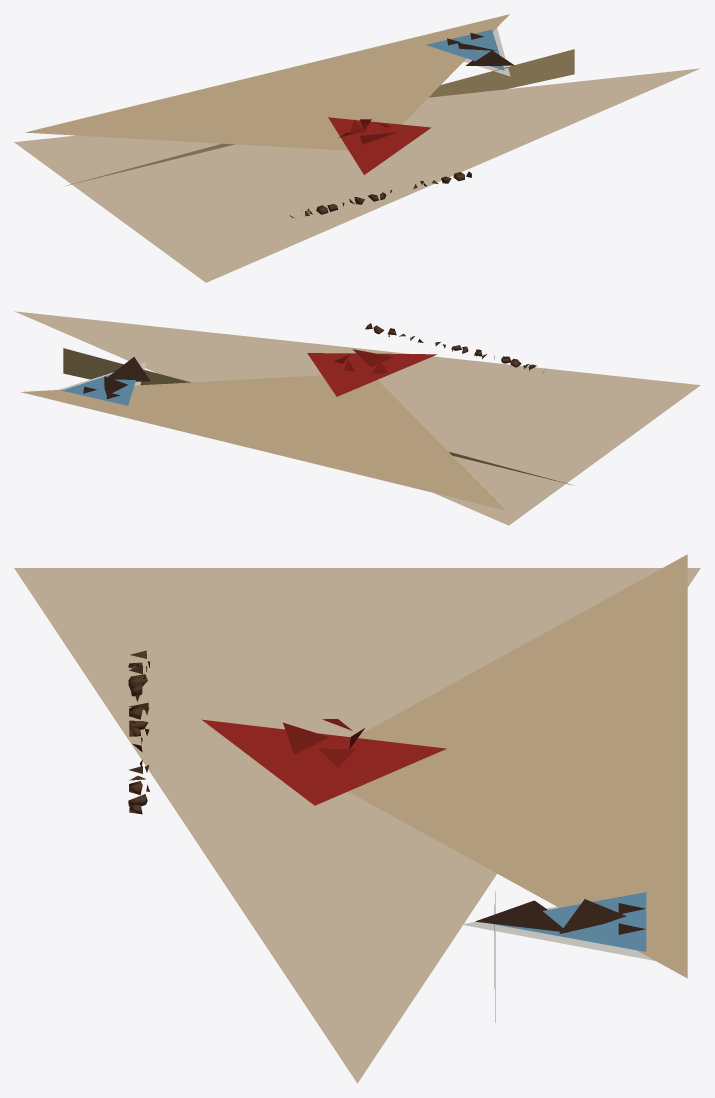
The model's file is thu_moi.glb.
3 renders of one model, top to bottom at view 1: azimuth 30°, elevation 25°; view 2: azimuth 150°, elevation 25°; view 3: azimuth 270°, elevation 25°, orthographic. The views are drawn at different scales.
Parts seen in each view (by area): view 1: thu_moi; view 2: thu_moi; view 3: thu_moi.
Part boxes in pixels (left/top/right/bottom): thu_moi: left=14, top=14, right=700, bottom=282; thu_moi: left=15, top=311, right=700, bottom=525; thu_moi: left=14, top=554, right=700, bottom=1083.
Bounding box in the file's own units: 0.1805 × 0.0127 × 0.0999.
